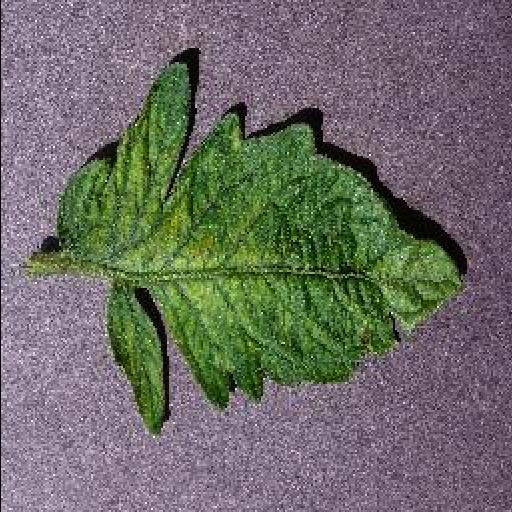Mosaic Virus: (54, 60, 468, 440)
